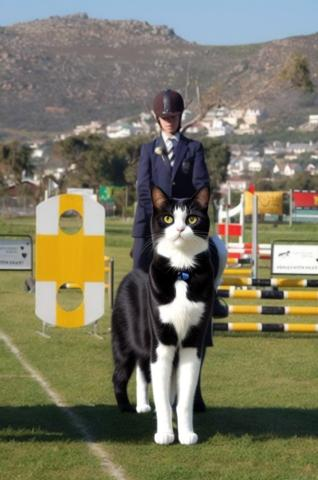cat: (110, 187, 214, 445)
person: (112, 90, 231, 320)
